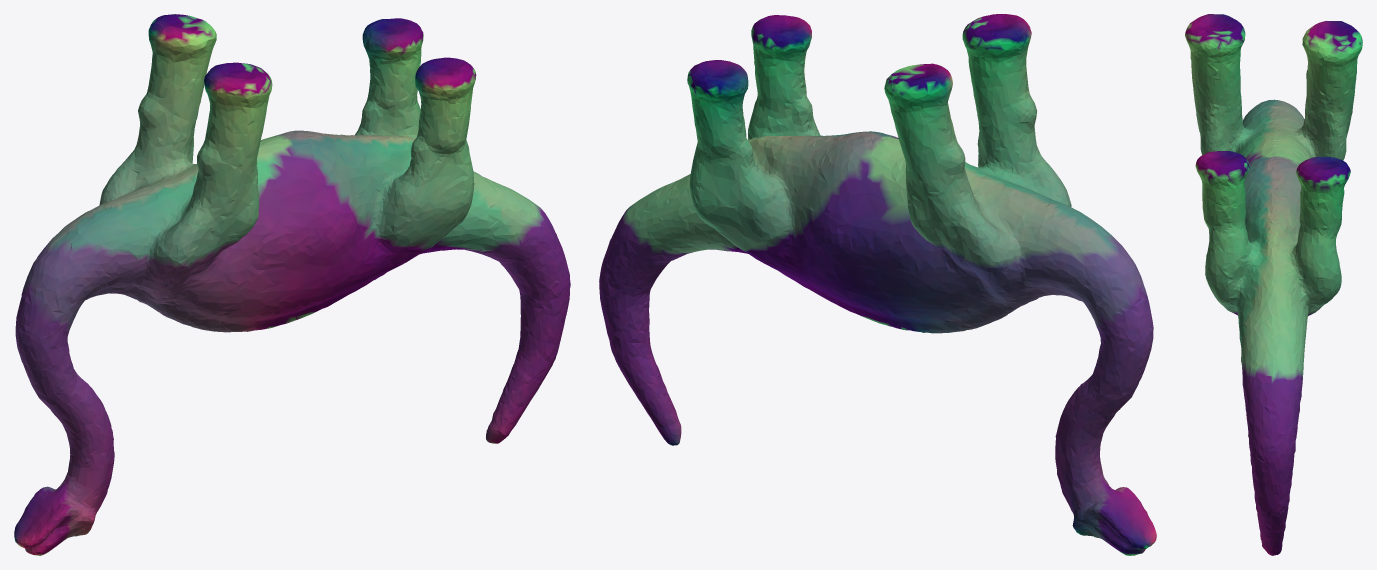
File: dinosaur-5.off.obj
3 views of the same model, side by side, from view 1: azimuth 30°, elevation 25°; view 2: azimuth 150°, elevation 25°; view 3: azimuth 270°, elevation 25° (orthographic). The views are drawn at different scales.
Bounding box in the file's own units: 1.39 × 1.14 × 0.4478.
